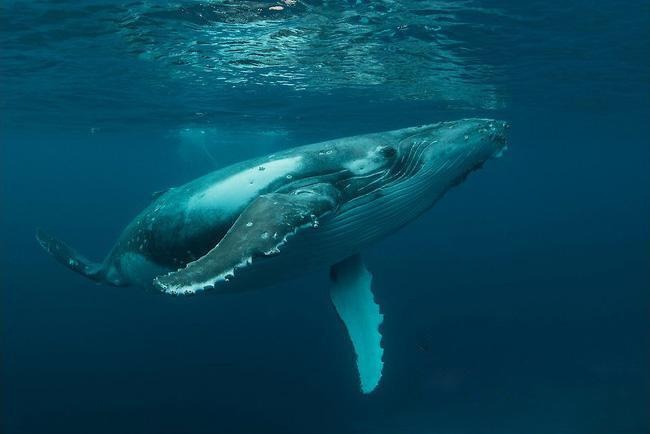fish: (29, 112, 525, 396)
